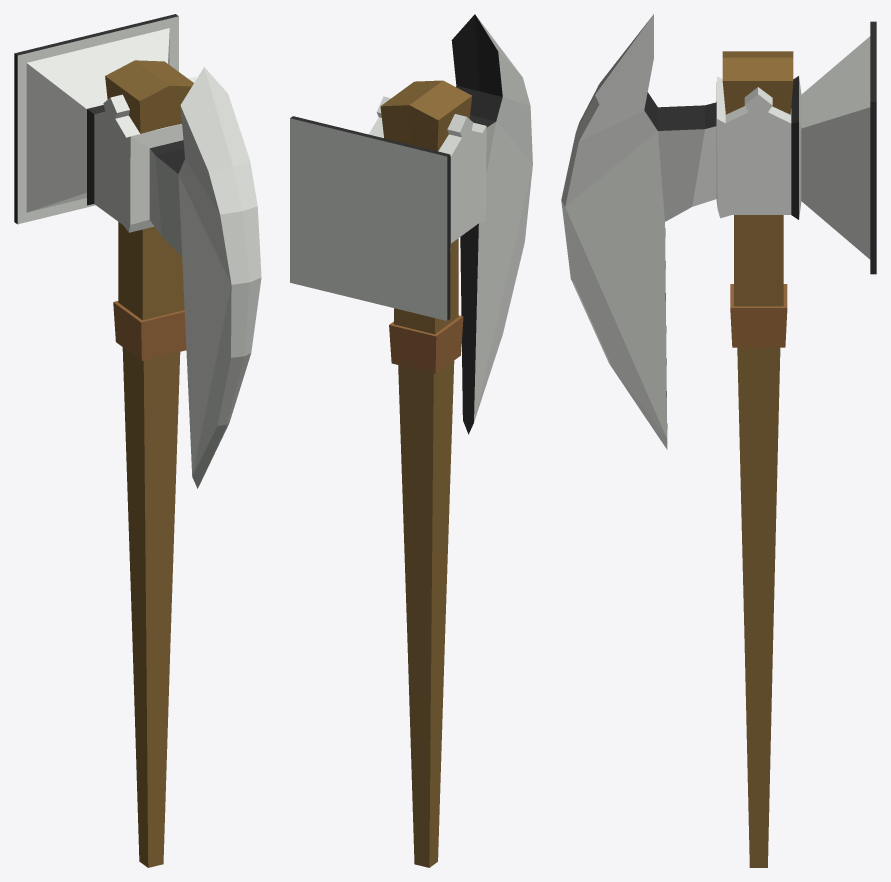
The model's file is HACHA.fbx.
3 views of the same model, side by side, from view 1: azimuth 30°, elevation 25°; view 2: azimuth 150°, elevation 25°; view 3: azimuth 270°, elevation 25° (orthographic). The views are drawn at different scales.
Parts seen in each view (by area): view 1: Plane; view 2: Plane; view 3: Plane.
Boxes of the visible parts, x1,y1,x2,y2 form: Plane: (14, 14, 261, 867); Plane: (290, 14, 532, 867); Plane: (561, 14, 876, 867).
Size of the model in its own units: 129 by 639 by 215.
